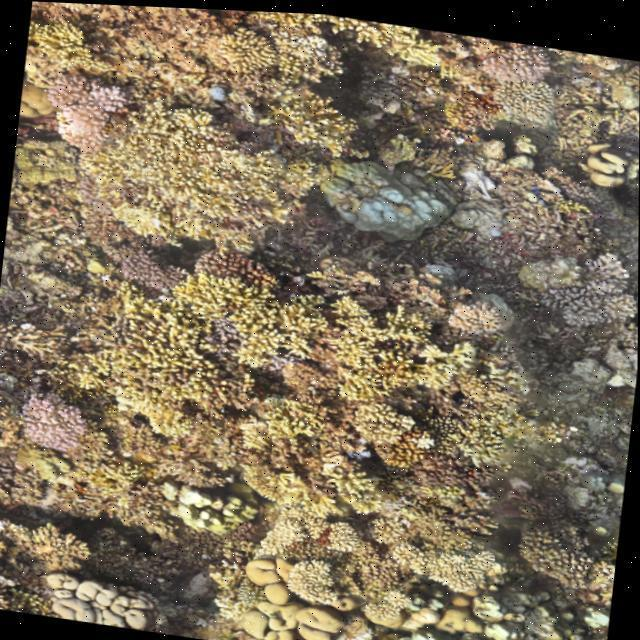Bleached Coral: (309, 153, 465, 250), (401, 563, 574, 640), (32, 66, 141, 160), (446, 144, 528, 250), (333, 422, 383, 468)
Healthy Coral: (171, 270, 519, 402), (126, 111, 290, 229), (226, 516, 366, 640), (32, 562, 176, 630), (16, 396, 94, 459)
